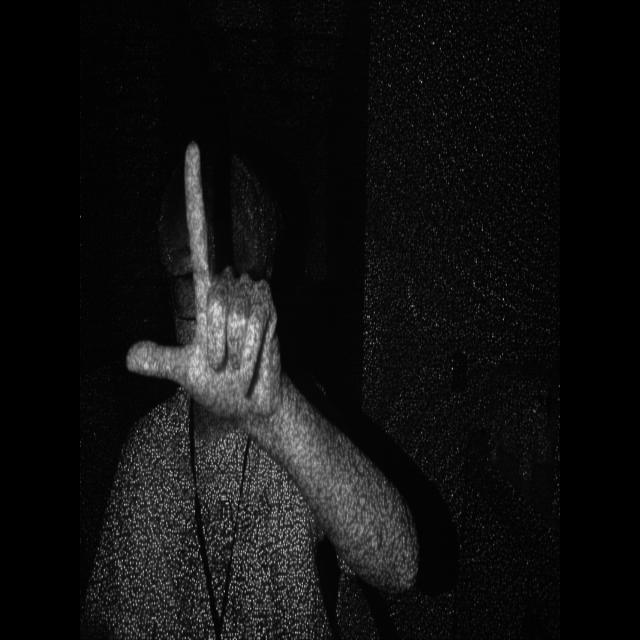L: (117, 124, 285, 428)
